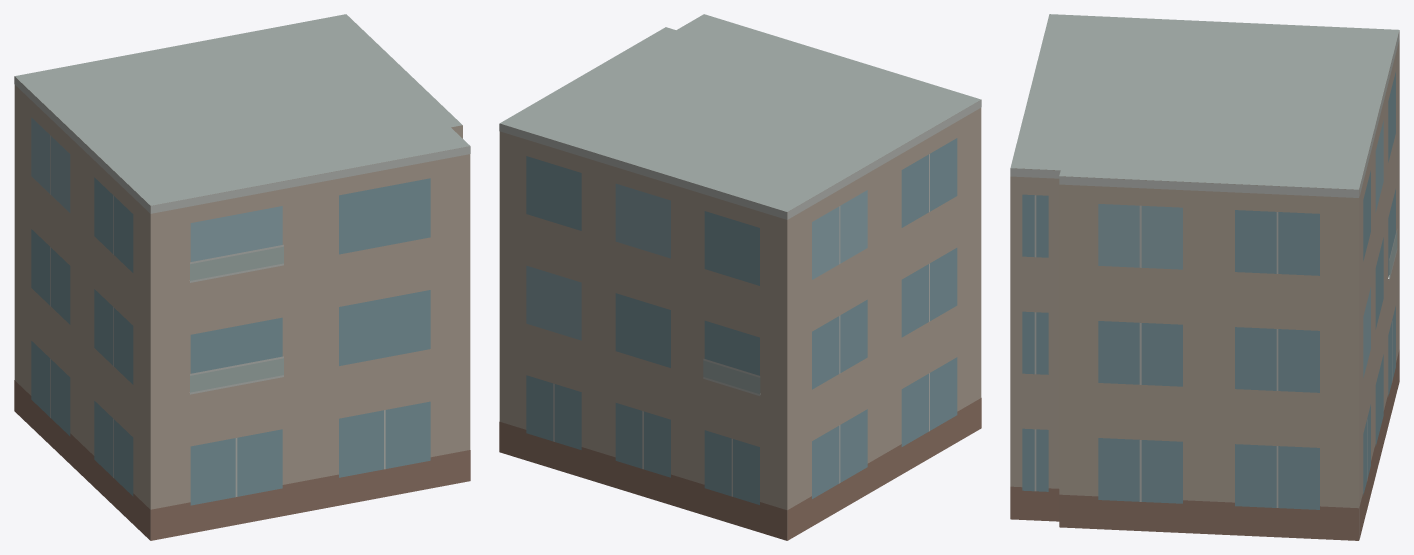
File: survey-upis-32828232.glb
3 views of the same model, side by side, from view 1: azimuth 30°, elevation 25°; view 2: azimuth 150°, elevation 25°; view 3: azimuth 270°, elevation 25° (orthographic). The views are drawn at different scales.
Parts seen in each view (by area): view 1: survey-upis-32828232.tmp; view 2: survey-upis-32828232.tmp; view 3: survey-upis-32828232.tmp.
Part boxes in pixels (x1,y1,x2,y2): survey-upis-32828232.tmp: [14, 14, 470, 540]; survey-upis-32828232.tmp: [499, 14, 981, 540]; survey-upis-32828232.tmp: [1010, 14, 1399, 540].
Size of the model in its own units: 10.95 by 10.2 by 10.26.
